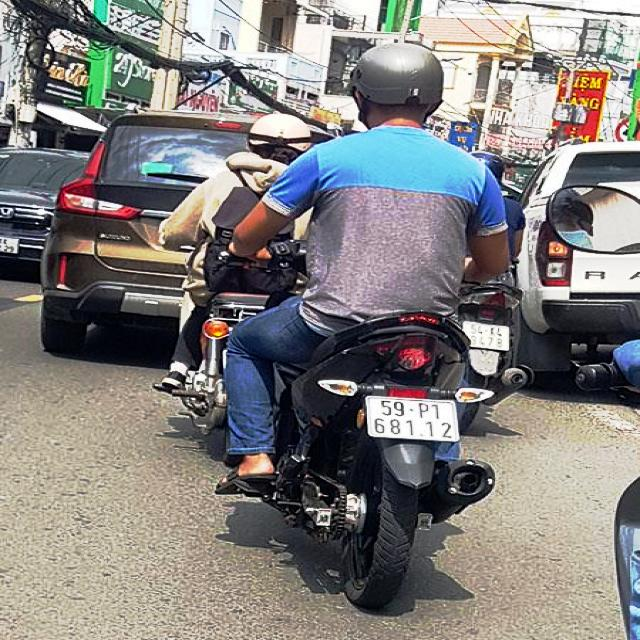license_plate: (369, 399, 462, 446)
